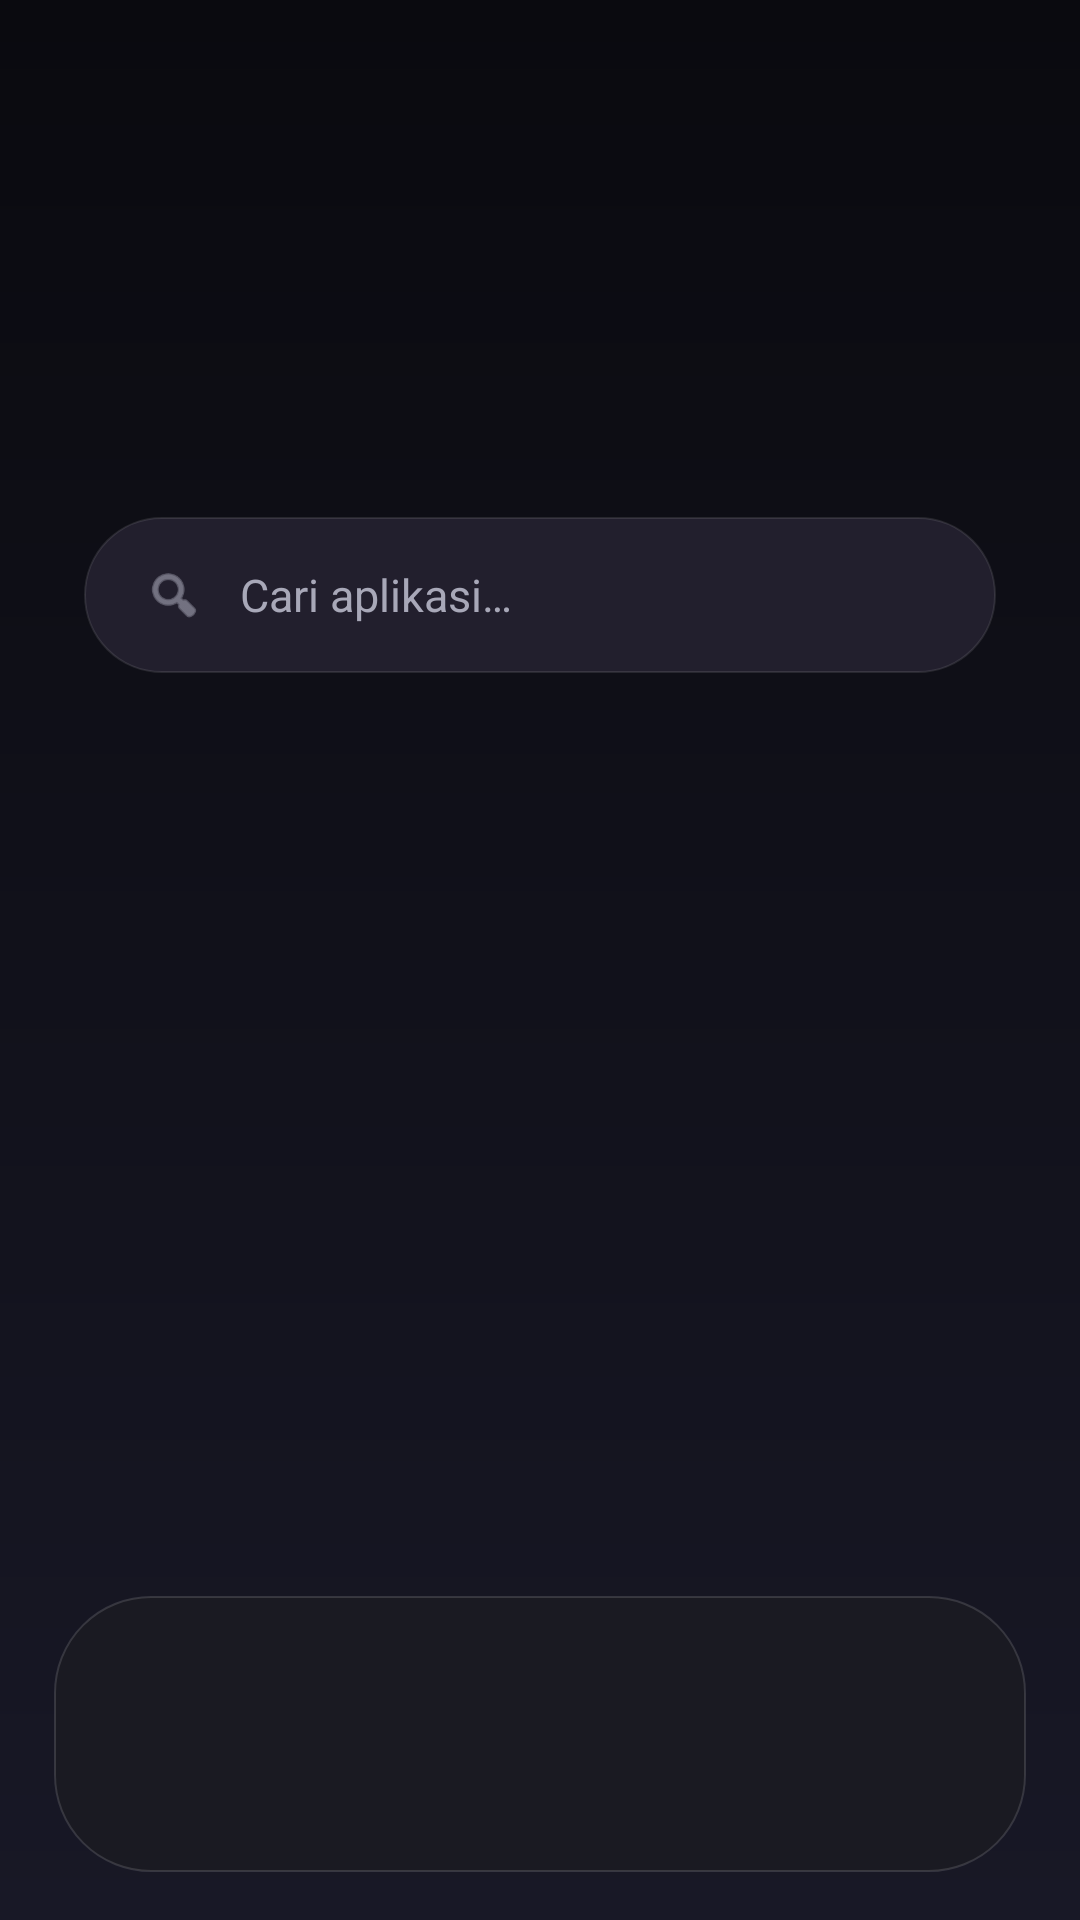

Where icons sit on this 1080px x 1920px app screen, as detection(x1, y1, x2, y2):
search: detection(152, 573, 196, 617)
